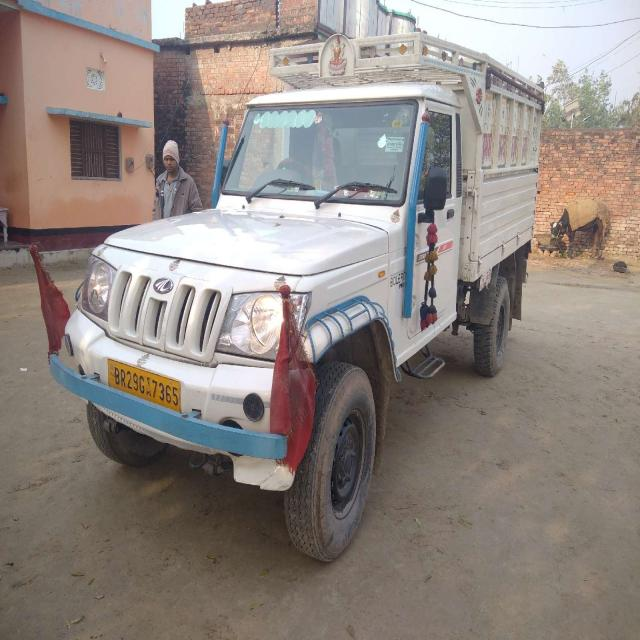light_vehicle: (44, 96, 544, 494)
